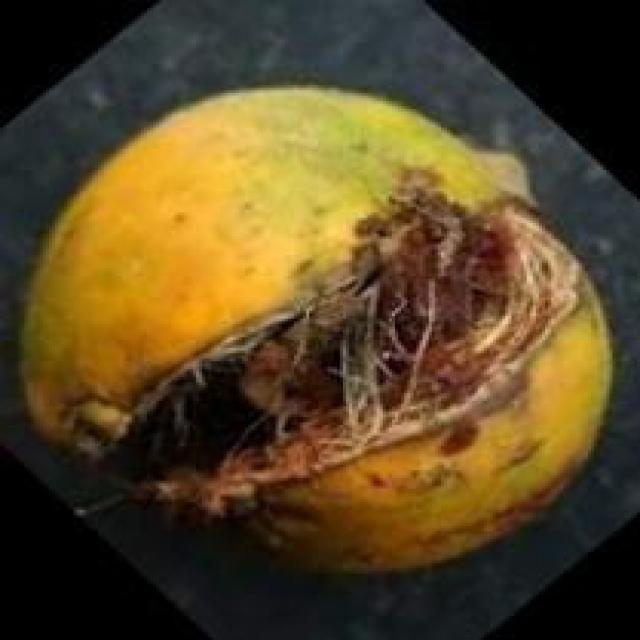damaged: (18, 85, 616, 587)
